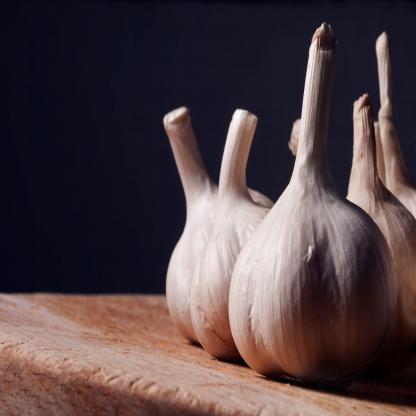garlic: (243, 110, 398, 416), (173, 169, 286, 368)
